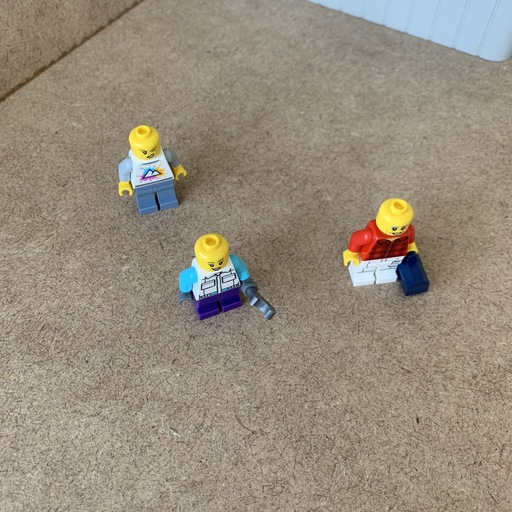human: (338, 192, 431, 299), (171, 224, 264, 322), (105, 121, 188, 215)
